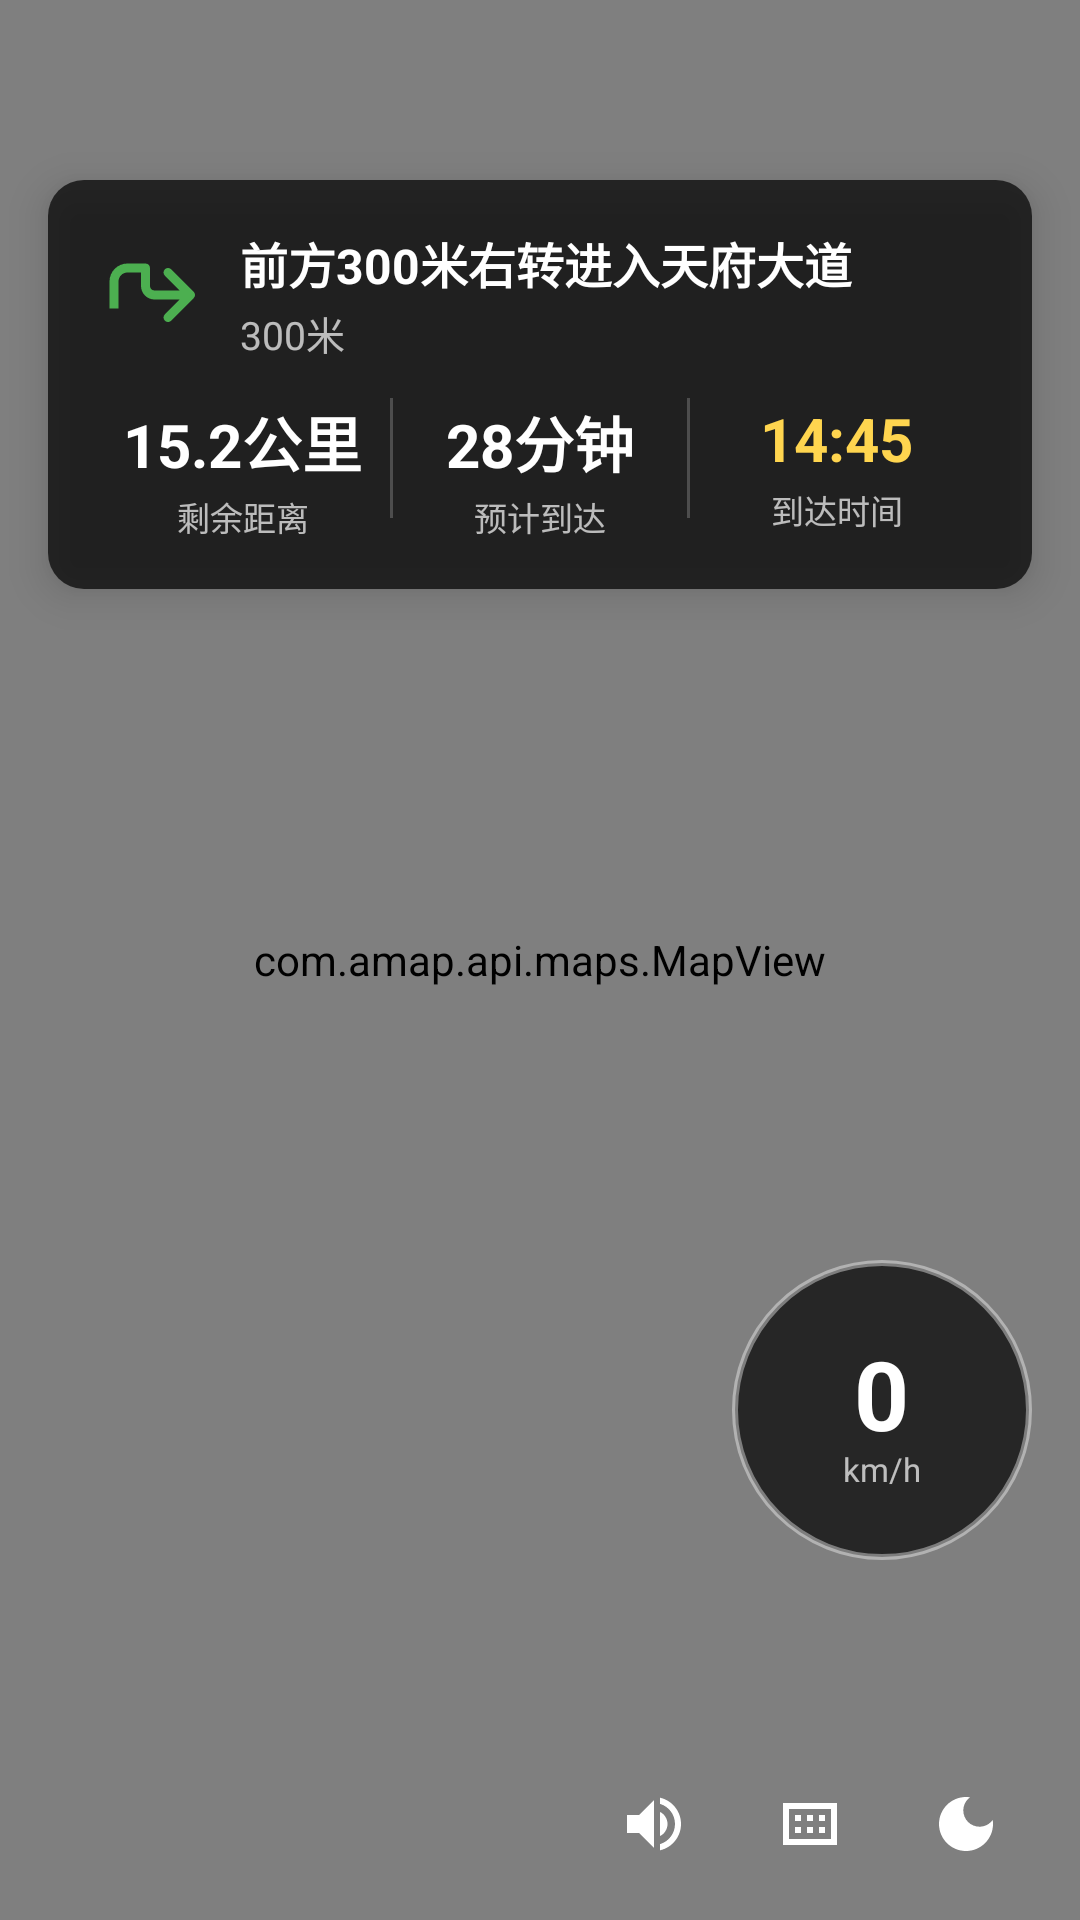

Where icons sit on this 1080px×1920px app screen, as {"x1": x1, "y1": y1, "x2": x2, "y2": y2}:
日夜模式: {"x1": 939, "y1": 1797, "x2": 993, "y2": 1851}
语音播报: {"x1": 627, "y1": 1798, "x2": 681, "y2": 1850}
转向: {"x1": 109, "y1": 263, "x2": 195, "y2": 322}
